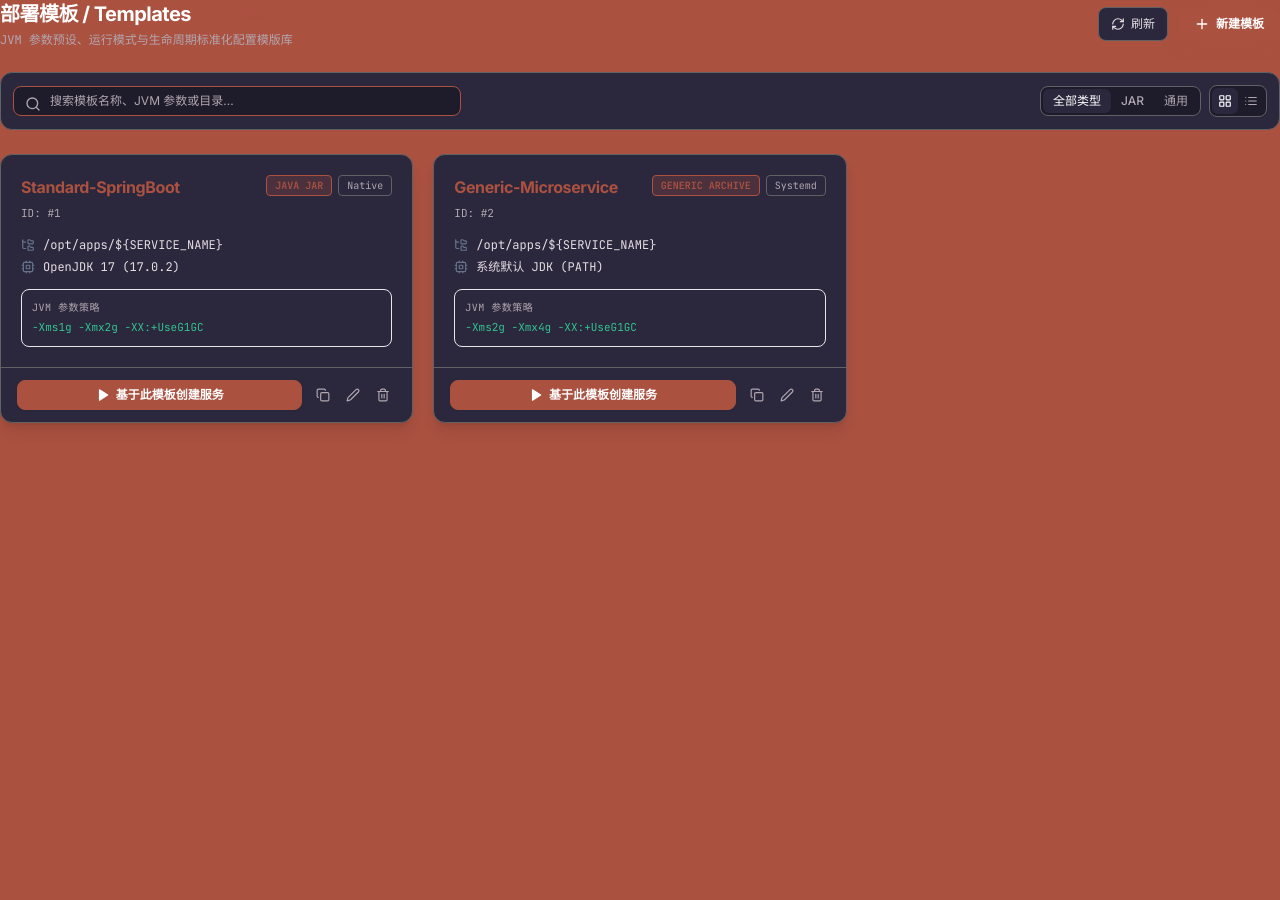
Test case: TemplateList Component › opens TemplateEditorModal when clicking 新建模板
Check: the text "Standard-SpringBoot" is shown, box [21,175,180,199]
What coordinates should you click on to do the following:
click the button "新建模板"
I would click on:
 (1229, 24)
Its box is [1178,8,1279,40].
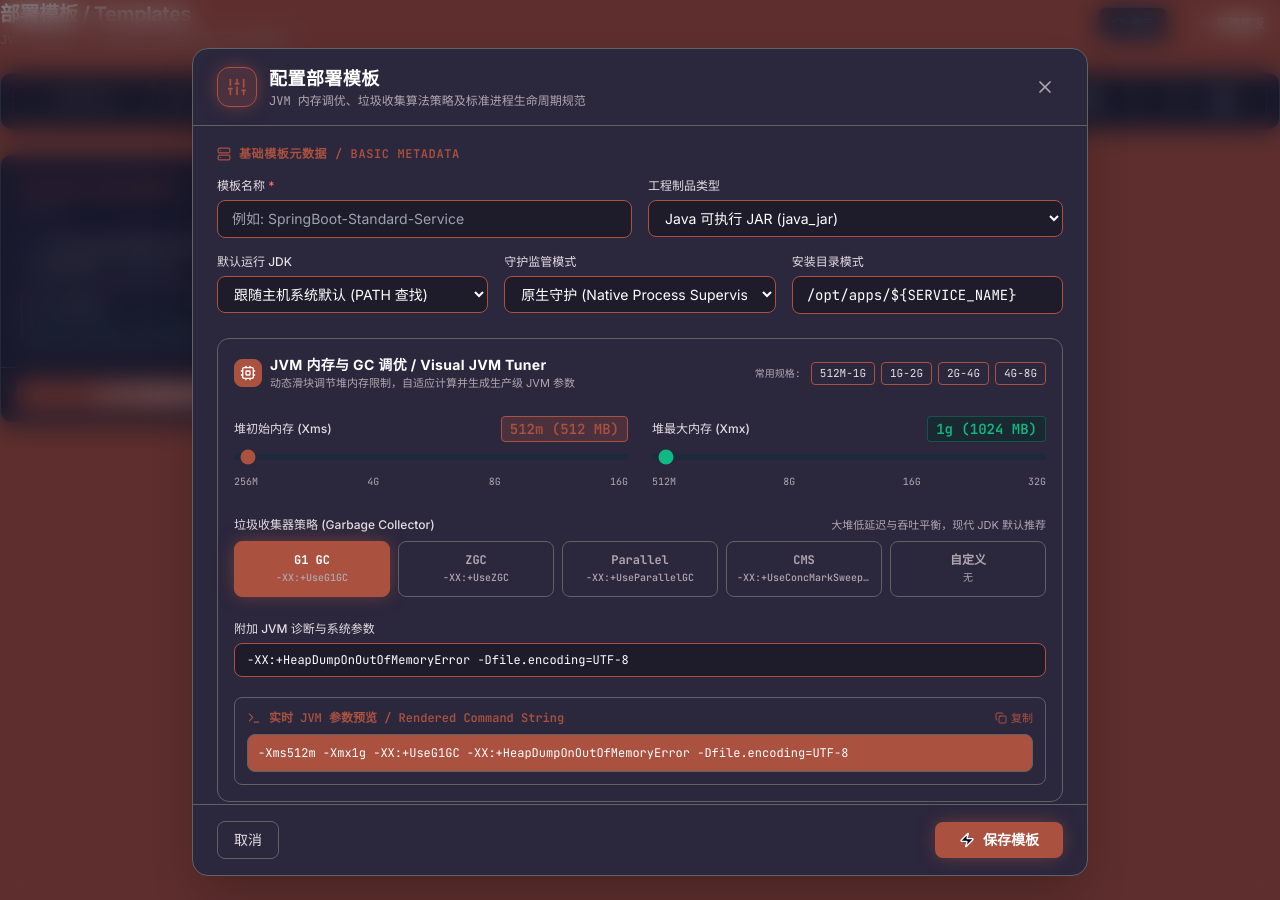
Check: the heading "配置部署模板" is shown, box [269,68,380,89]
